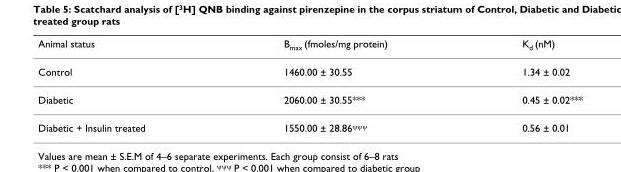table: (37, 37, 582, 133)
table column: (213, 37, 454, 133), (37, 37, 213, 133), (454, 37, 582, 133)
table column header: (37, 37, 582, 58)
table row: (37, 85, 582, 113), (37, 58, 582, 85), (37, 37, 582, 58), (37, 113, 582, 133)
